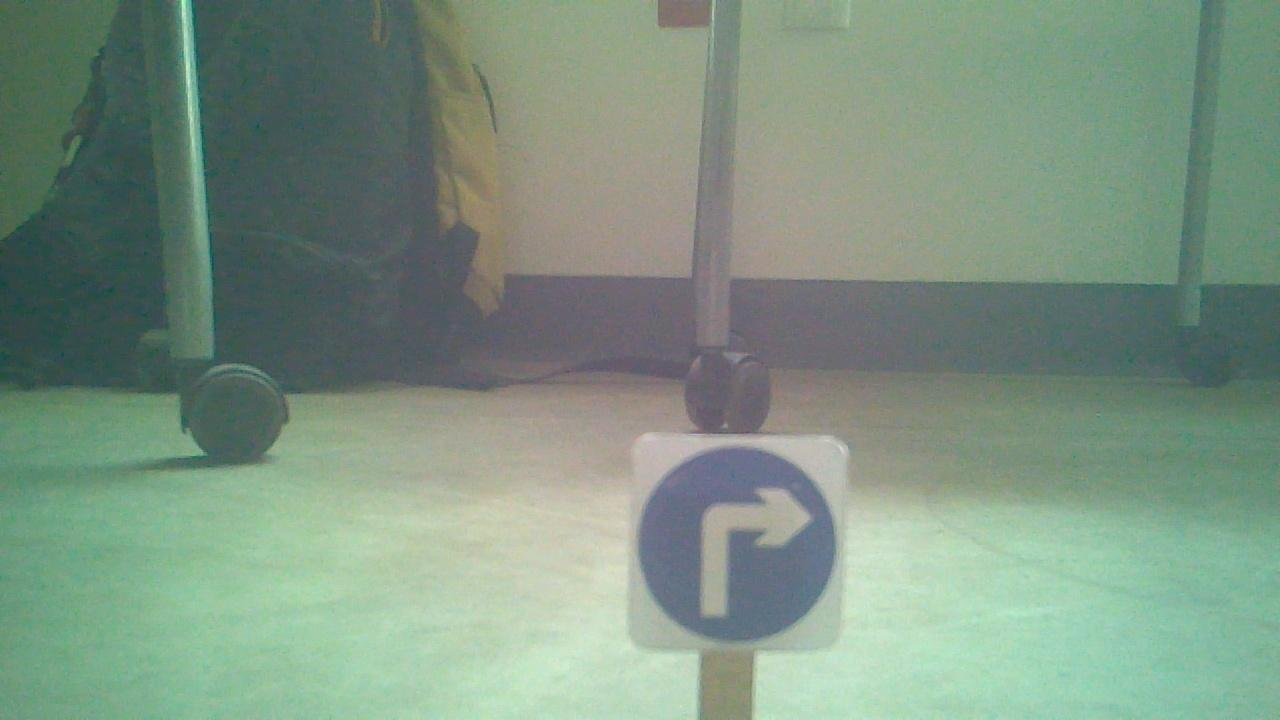turn: (631, 439, 849, 640)
